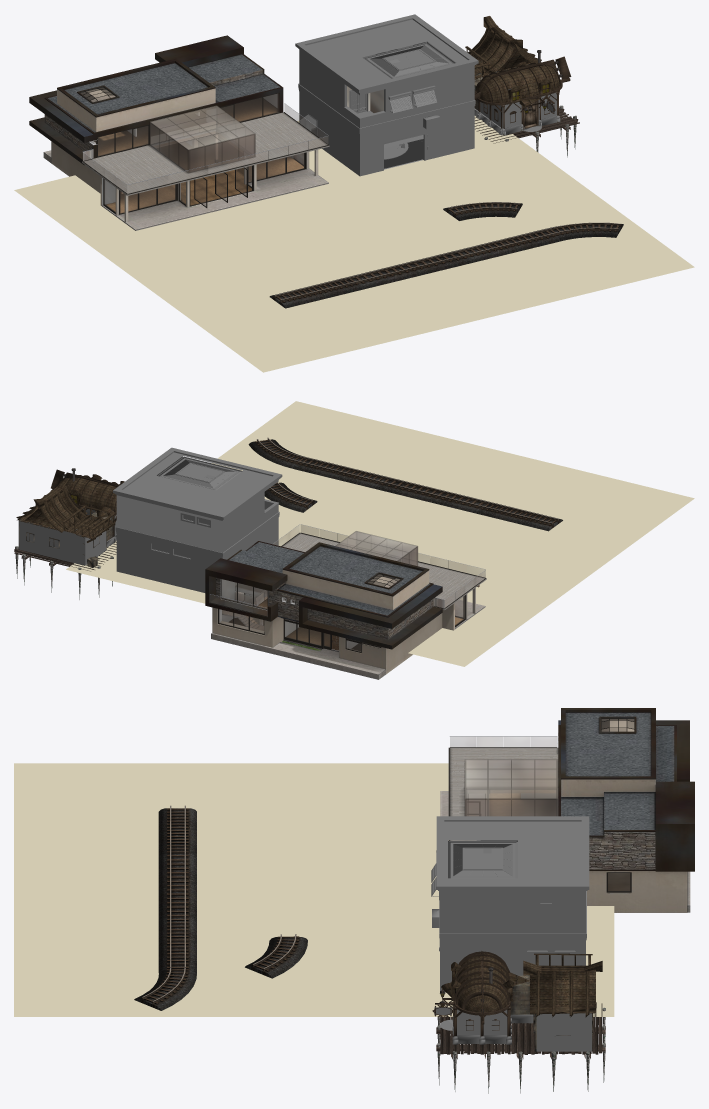
3 views of the same model, one above another, from view 1: azimuth 30°, elevation 25°; view 2: azimuth 150°, elevation 25°; view 3: azimuth 270°, elevation 25° (orthographic). The views are drawn at different scales.
Parts seen in each view (by area): view 1: Terrain 7,4, prim0-mesh (×9), MESHWORX The Retreat v1#9, Pretty Polly's Pet shop, MESHWORX The Retreat v1#76, MESHWORX The Retreat v1#3, MESHWORX The Retreat v1#35, MESHWORX The Retreat v1#77, TRACKSTRAIGHT16 Rail (×2), MESHWORX The Retreat v1#75, Train TRACKCURVE 01 prim (×2), MESHWORX The Retreat v1#72 (+4 smaller); view 2: Terrain 7,4, prim0-mesh (×9), MESHWORX The Retreat v1#9, Pretty Polly's Pet shop, TRACKSTRAIGHT16 Rail (×2), MESHWORX The Retreat v1#55, MESHWORX The Retreat v1#13, MESHWORX The Retreat v1#76, MESHWORX The Retreat v1#59, Train TRACKCURVE 01 prim (×2), MESHWORX The Retreat v1#35, TRACKSTRAIGHT32 Rail (+7 smaller); view 3: Terrain 7,4, prim0-mesh (×6), MESHWORX The Retreat v1#9, Pretty Polly's Pet shop, MESHWORX The Retreat v1#35, TRACKSTRAIGHT16 Rail (×2), MESHWORX The Retreat v1#59, Train TRACKCURVE 01 prim (×2), MESHWORX The Retreat v1#76, TRACKSTRAIGHT32 Rail, MESHWORX The Retreat v1#3, MESHWORX The Retreat v1#69 (+1 smaller).
Boxes of the visible parts, x1=… form: Terrain 7,4: x1=14, y1=116, x2=694, y2=372; prim0-mesh (×9): x1=295, y1=14, x2=478, y2=176; MESHWORX The Retreat v1#9: x1=29, y1=35, x2=283, y2=165; Pretty Polly's Pet shop: x1=465, y1=16, x2=579, y2=157; MESHWORX The Retreat v1#76: x1=82, y1=107, x2=329, y2=195; MESHWORX The Retreat v1#3: x1=102, y1=157, x2=328, y2=230; MESHWORX The Retreat v1#35: x1=149, y1=105, x2=255, y2=173; MESHWORX The Retreat v1#77: x1=106, y1=135, x2=293, y2=209; TRACKSTRAIGHT16 Rail (×2): x1=349, y1=228, x2=560, y2=289; MESHWORX The Retreat v1#75: x1=94, y1=97, x2=329, y2=194; Train TRACKCURVE 01 prim (×2): x1=443, y1=202, x2=623, y2=241; MESHWORX The Retreat v1#72: x1=128, y1=136, x2=328, y2=194; Terrain 7,4: x1=66, y1=401, x2=694, y2=666; prim0-mesh (×9): x1=113, y1=447, x2=282, y2=592; MESHWORX The Retreat v1#9: x1=205, y1=541, x2=442, y2=649; Pretty Polly's Pet shop: x1=14, y1=468, x2=124, y2=599; TRACKSTRAIGHT16 Rail (×2): x1=294, y1=457, x2=489, y2=513; MESHWORX The Retreat v1#55: x1=339, y1=603, x2=454, y2=674; MESHWORX The Retreat v1#13: x1=211, y1=633, x2=385, y2=679; MESHWORX The Retreat v1#76: x1=235, y1=533, x2=486, y2=610; MESHWORX The Retreat v1#59: x1=212, y1=579, x2=298, y2=647; Train TRACKCURVE 01 prim (×2): x1=248, y1=437, x2=317, y2=512; MESHWORX The Retreat v1#35: x1=335, y1=531, x2=417, y2=566; TRACKSTRAIGHT32 Rail: x1=476, y1=501, x2=562, y2=531; Terrain 7,4: x1=14, y1=763, x2=614, y2=1016; prim0-mesh (×6): x1=436, y1=816, x2=589, y2=990; MESHWORX The Retreat v1#9: x1=558, y1=708, x2=694, y2=871; Pretty Polly's Pet shop: x1=432, y1=951, x2=605, y2=1093; MESHWORX The Retreat v1#35: x1=464, y1=759, x2=558, y2=816; TRACKSTRAIGHT16 Rail (×2): x1=158, y1=851, x2=196, y2=972; MESHWORX The Retreat v1#59: x1=587, y1=871, x2=687, y2=912; Train TRACKCURVE 01 prim (×2): x1=134, y1=934, x2=307, y2=1010; MESHWORX The Retreat v1#76: x1=449, y1=747, x2=558, y2=840; TRACKSTRAIGHT32 Rail: x1=158, y1=805, x2=196, y2=856; MESHWORX The Retreat v1#3: x1=440, y1=791, x2=629, y2=890; MESHWORX The Retreat v1#69: x1=450, y1=736, x2=556, y2=747.
Size of what is drawn, in the model's own units: 74.48 by 17.28 by 72.61.
Materials: 229 (228 with a texture image).
